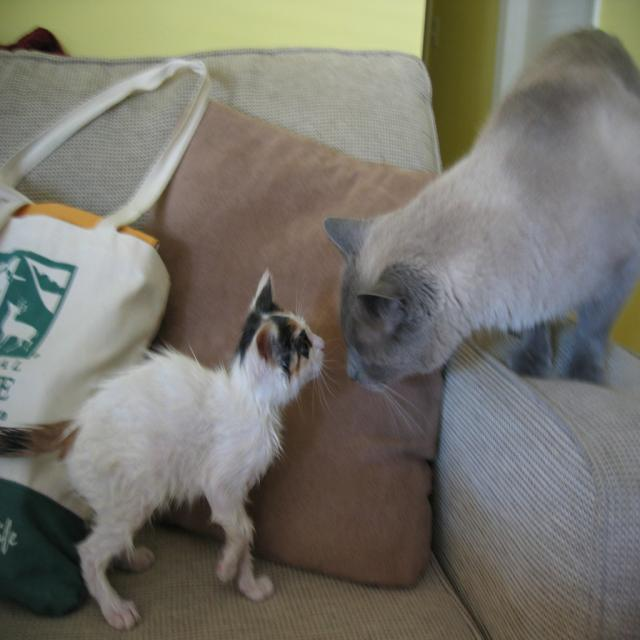Cat: (322, 23, 638, 439), (0, 266, 332, 633)
